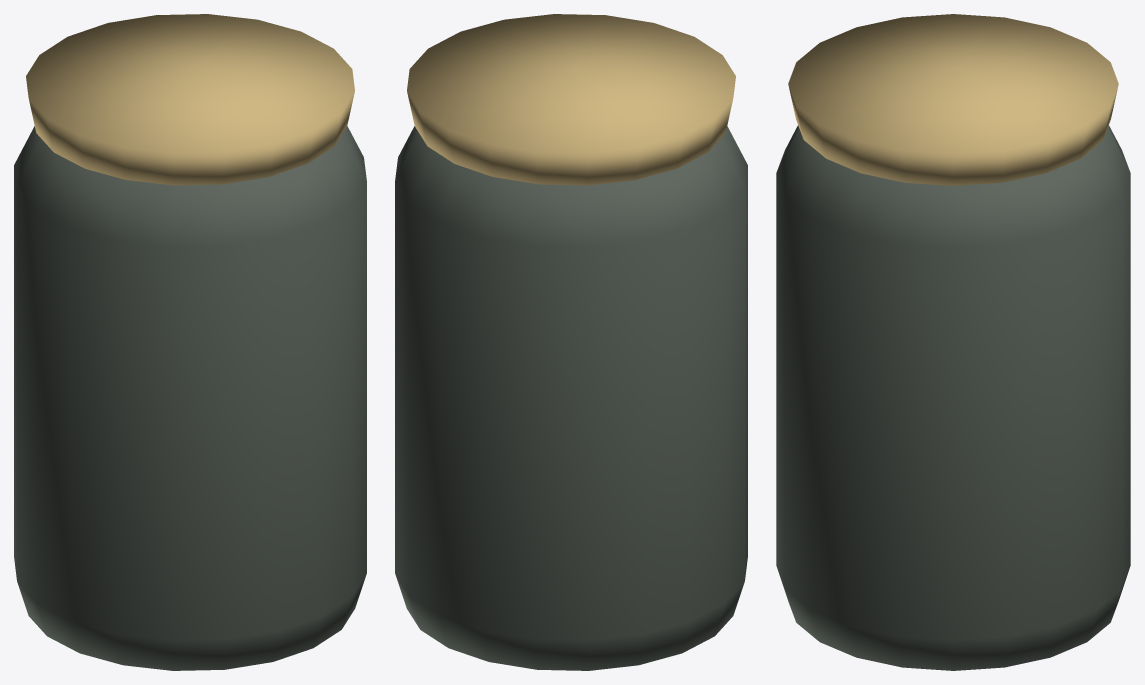
File: jar.glb
3 views of the same model, side by side, from view 1: azimuth 30°, elevation 25°; view 2: azimuth 150°, elevation 25°; view 3: azimuth 270°, elevation 25° (orthographic).
Visible parts, largest first — view 1: jar; view 2: jar; view 3: jar.
Part boxes in pixels (bbox=[...]): jar: bbox=[14, 14, 366, 670]; jar: bbox=[395, 14, 747, 670]; jar: bbox=[776, 14, 1130, 670].
Size of the model in its own units: 0.09 by 0.15 by 0.09.
